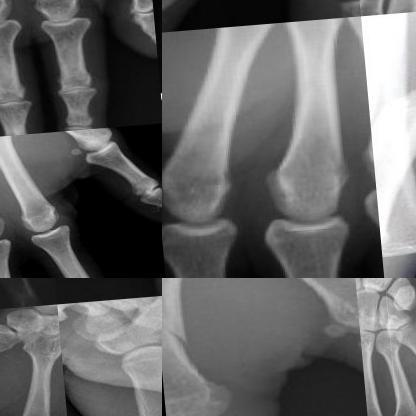fracture: (162, 278, 221, 358), (364, 81, 415, 156)
